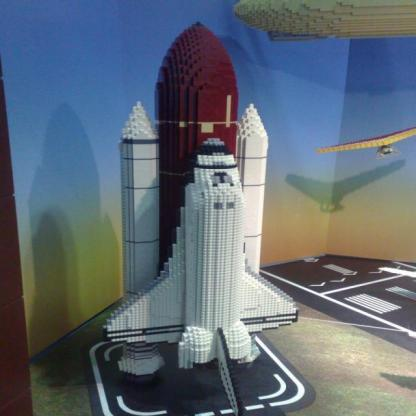MIL_TBM: (116, 96, 167, 368)
